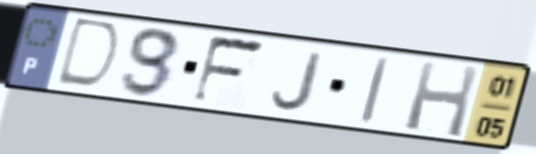9: (116, 26, 186, 101)
D: (50, 15, 126, 93)
F: (187, 33, 270, 108)
H: (401, 58, 483, 141)
I: (356, 53, 394, 128)
J: (268, 48, 329, 114)
